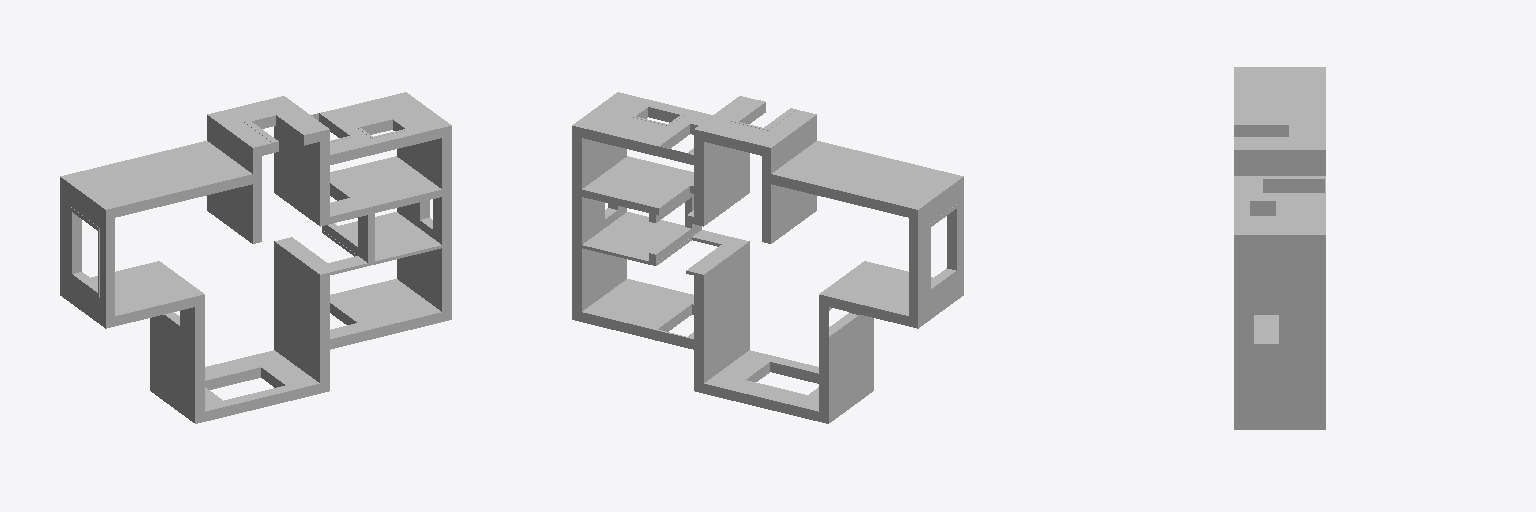
Rendered from Waende_EG.obj.
3 views of the same model, side by side, from view 1: azimuth 30°, elevation 25°; view 2: azimuth 150°, elevation 25°; view 3: azimuth 270°, elevation 25° (orthographic).
Size of the model in its own units: 13918 by 10078 by 3180.